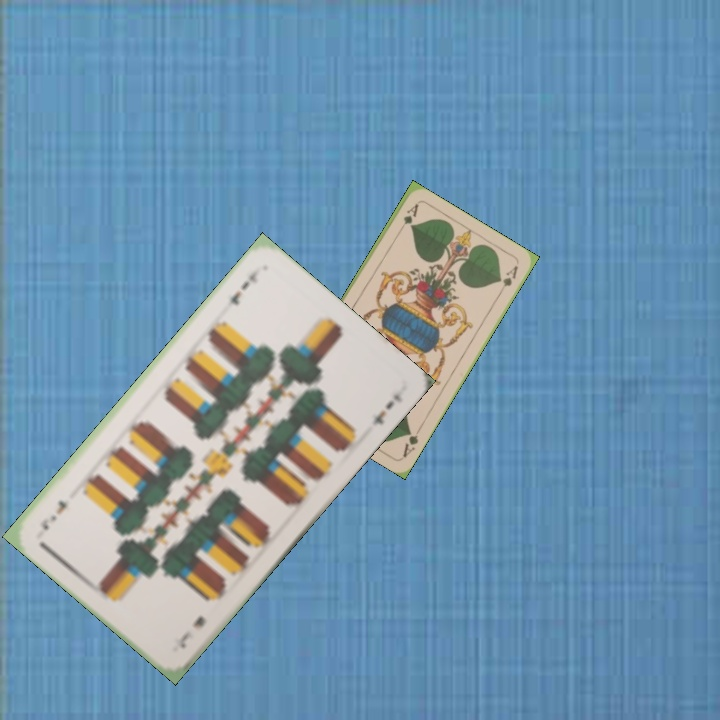E7: (225, 265, 263, 308), (175, 612, 209, 652)
GA: (393, 200, 421, 237), (398, 422, 424, 460)
